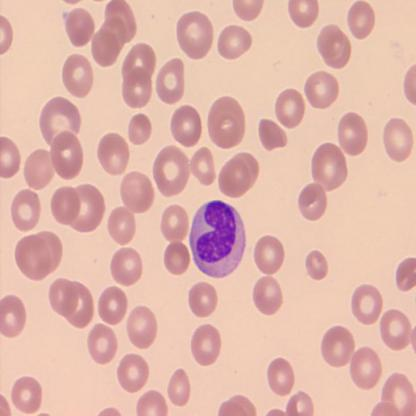Band Neutrophil: (186, 195, 248, 281)
